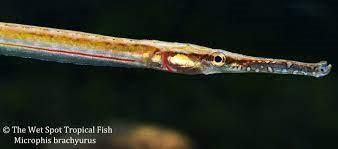Long-Snouted Pipefish: (0, 18, 334, 79)
